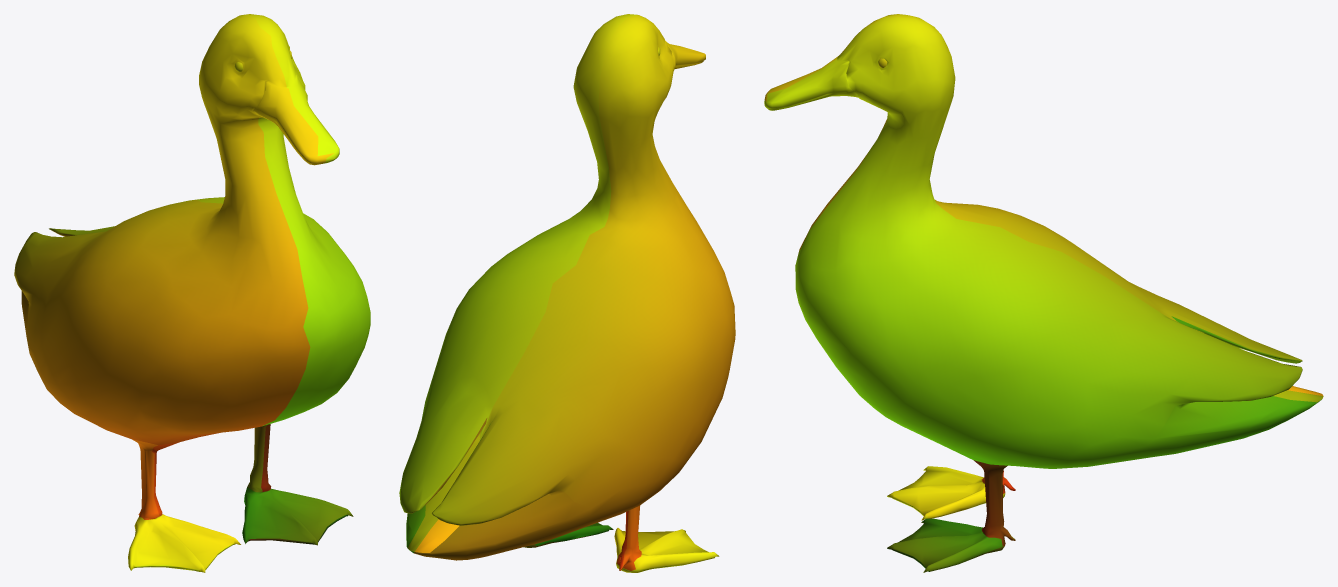
Rendered from duck2.obj.
3 views of the same model, side by side, from view 1: azimuth 30°, elevation 25°; view 2: azimuth 150°, elevation 25°; view 3: azimuth 270°, elevation 25° (orthographic). The views are drawn at different scales.
Visible parts, largest first — view 1: duck_full; view 2: duck_full; view 3: duck_full.
Boxes of the visible parts, <box> form: duck_full: <box>14,14,370,572</box>; duck_full: <box>399,14,735,572</box>; duck_full: <box>764,14,1323,572</box>.
Size of the model in its own units: 1.43 by 2.82 by 2.83.
Materials: 1 (1 with a texture image).
